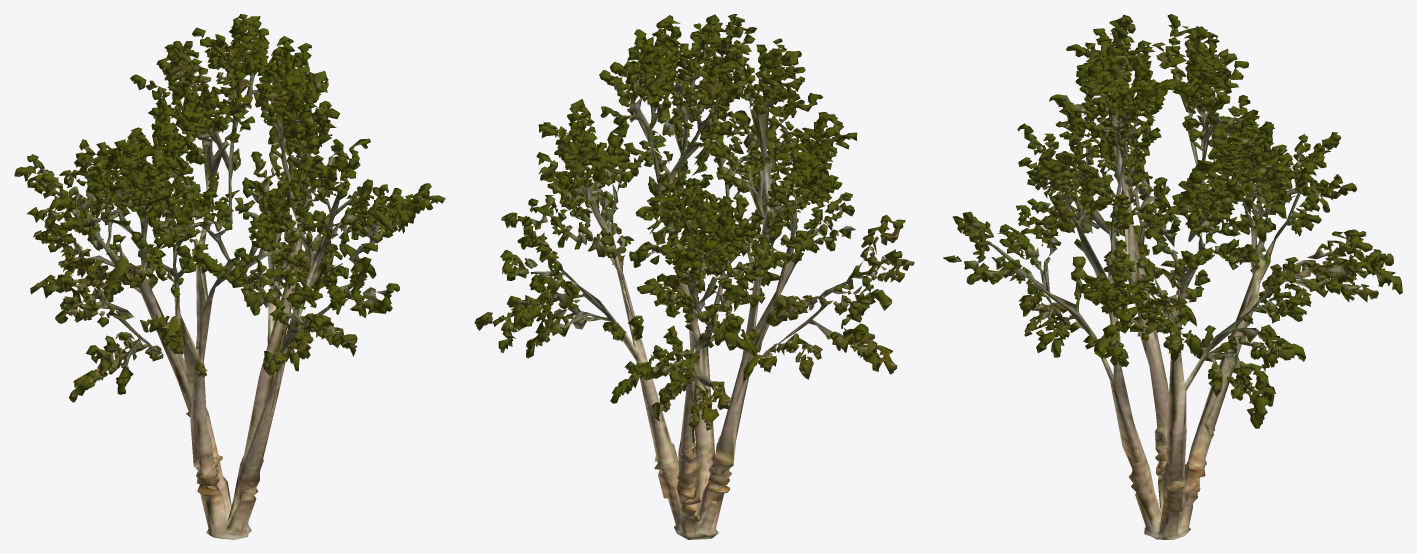
The model's file is tree_07_birch_cluster.glb.
3 renders of one model, left to right at view 1: azimuth 30°, elevation 25°; view 2: azimuth 150°, elevation 25°; view 3: azimuth 270°, elevation 25°, orthographic.
Visible parts, largest first — view 1: geometry_0; view 2: geometry_0; view 3: geometry_0.
Boxes of the visible parts, <box> form: geometry_0: <box>14,14,445,539</box>; geometry_0: <box>474,14,914,539</box>; geometry_0: <box>943,14,1402,539</box>.
Bounding box in the file's own units: 0.7927 × 1 × 0.8261.
Materials: 1 (1 with a texture image).
